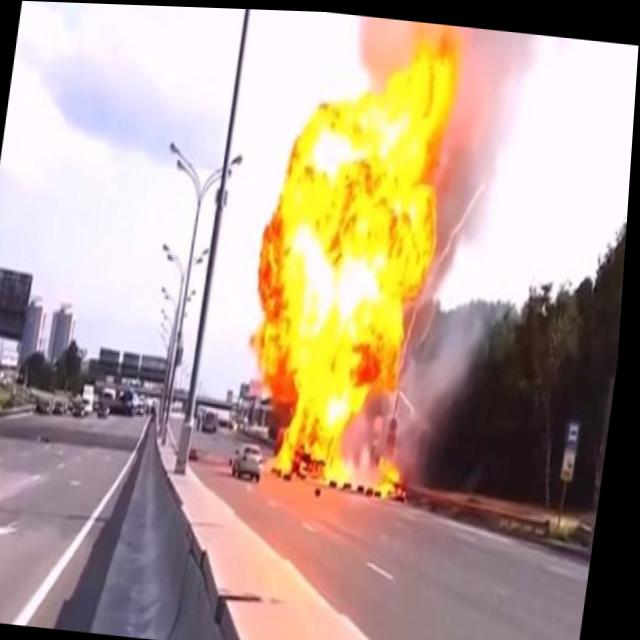fire: (237, 28, 493, 528)
